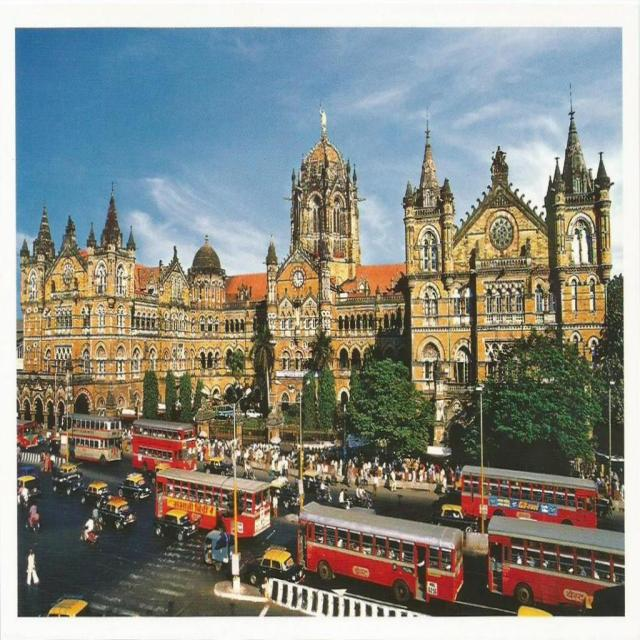car: (242, 543, 305, 585), (48, 589, 92, 631), (117, 470, 149, 508), (98, 494, 140, 521), (52, 467, 84, 495), (13, 467, 39, 500), (82, 475, 105, 508)
